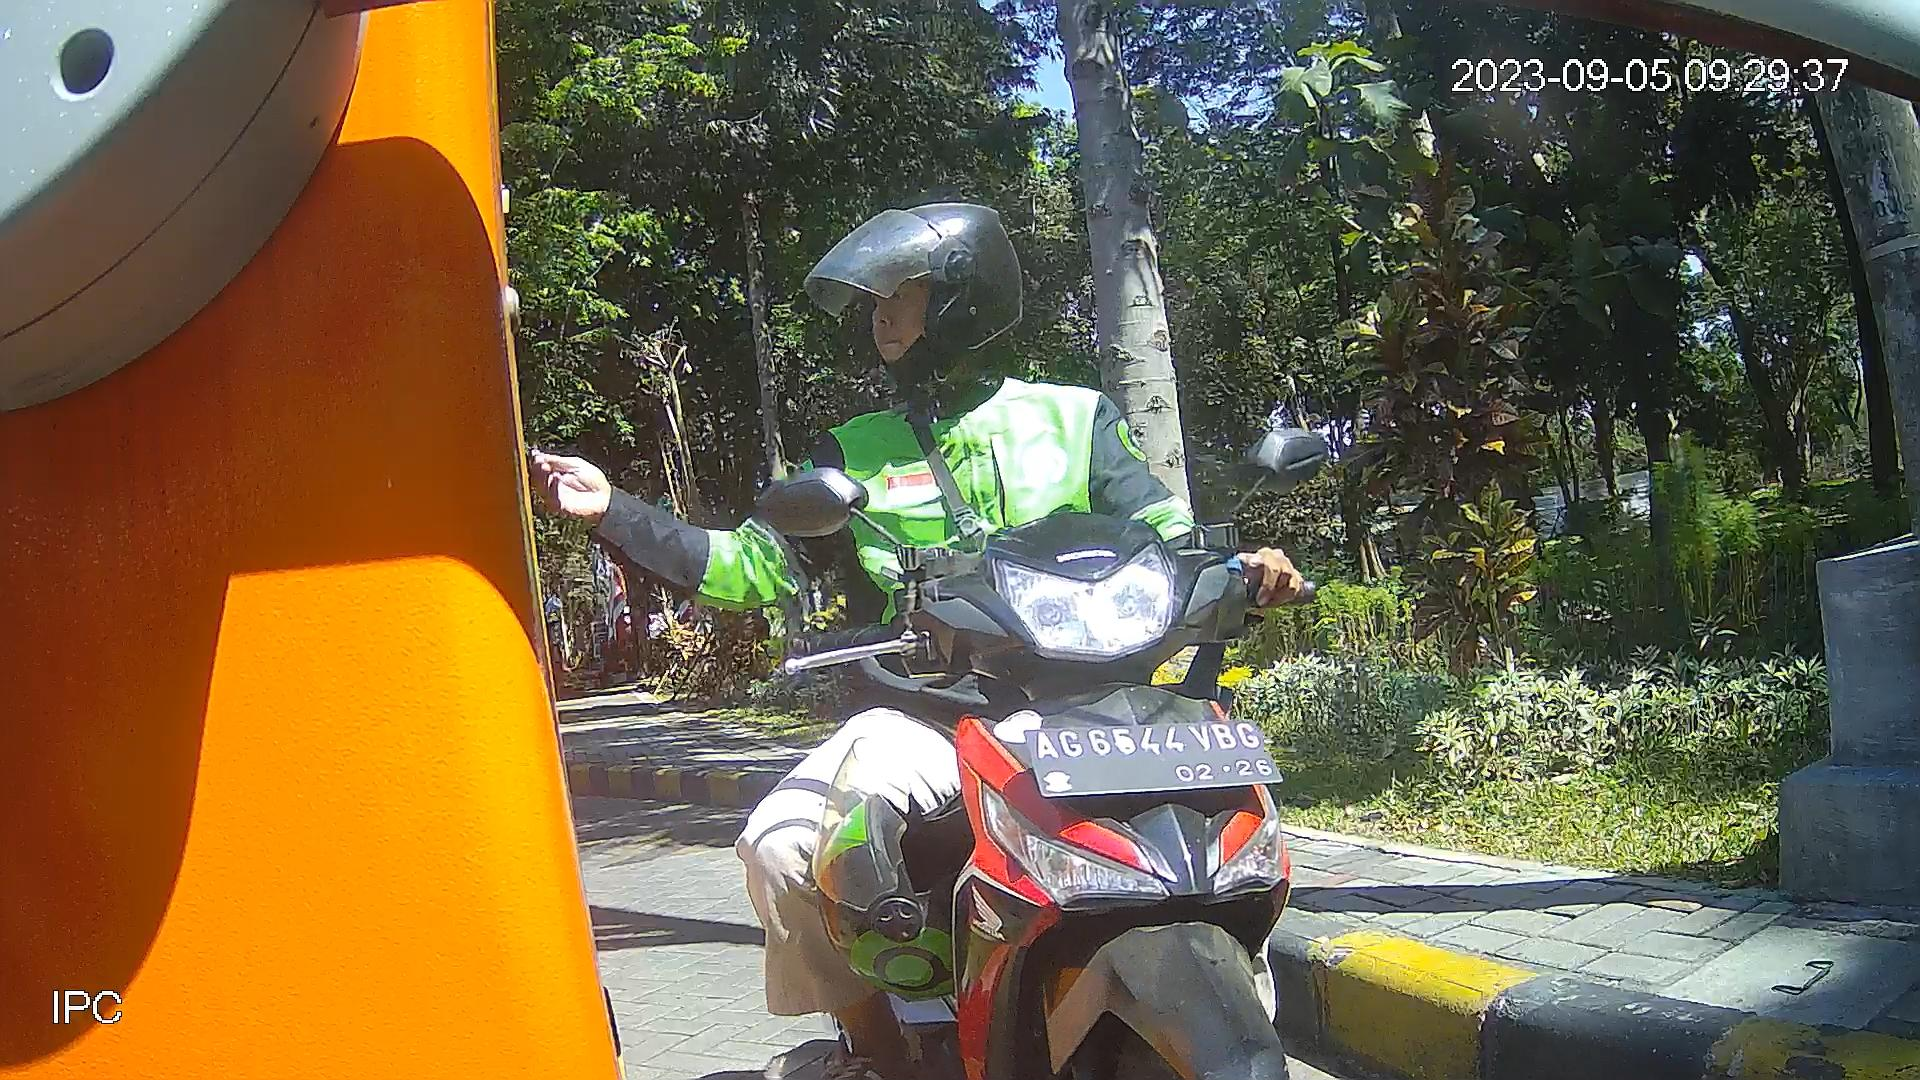plat: (1021, 716, 1287, 798)
